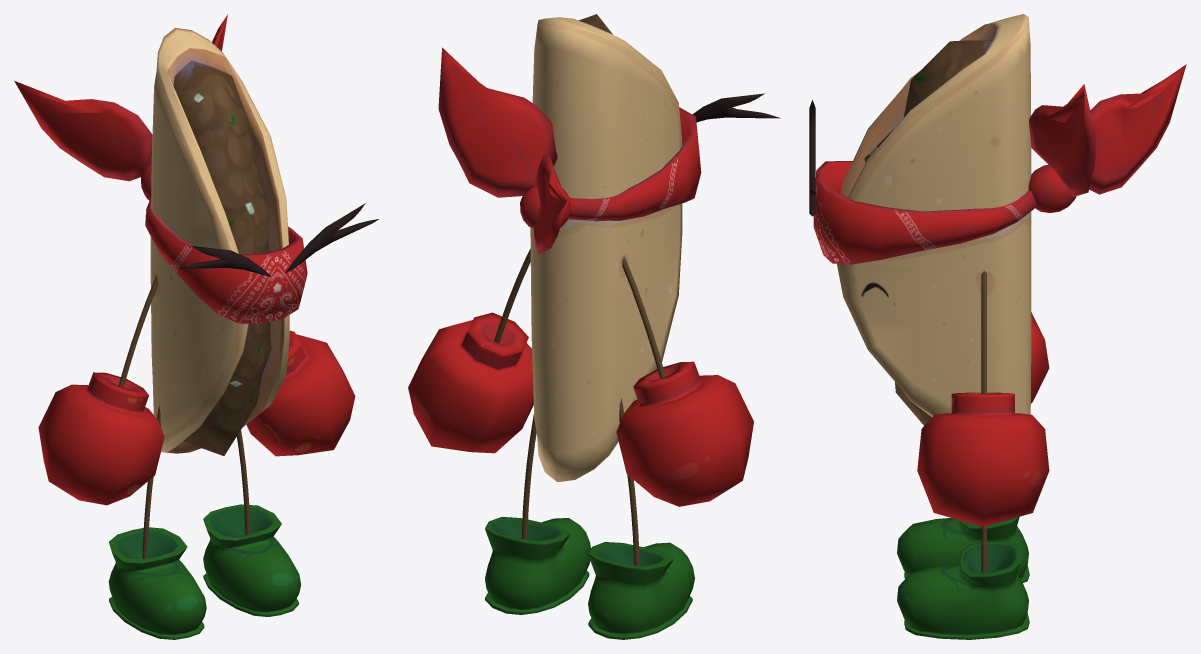
File: MODELOFINALllll.fbx
3 views of the same model, side by side, from view 1: azimuth 30°, elevation 25°; view 2: azimuth 150°, elevation 25°; view 3: azimuth 270°, elevation 25° (orthographic). The views are drawn at different scales.
Parts seen in each view (by area): view 1: Msh_NOUVS_Taco_Msh_Tortilla, Msh_NOUVS_Taco_Msh_Carnita, Msh_NOUVS_Taco_Msh_GuanteL001, Msh_NOUVS_Taco_Msh_ZapatoR, Msh_NOUVS_Taco_Msh_ZapatoL, Msh_Taco_Guante, Msh_NOUVS_Taco_Msh_Bandana, Msh_NOUVS_Taco_Msh_BandanaR, Msh_NOUVS_Taco_Msh_CejaL, Msh_NOUVS_Taco_Msh_CejaR, Msh_NOUVS_Taco_Msh_BrazoL001, Msh_NOUVS_Taco_Msh_PiernaL (+1 smaller); view 2: Msh_NOUVS_Taco_Msh_Tortilla, Msh_NOUVS_Taco_Msh_GuanteL001, Msh_Taco_Guante, Msh_NOUVS_Taco_Msh_BandanaL, Msh_NOUVS_Taco_Msh_ZapatoR, Msh_NOUVS_Taco_Msh_ZapatoL, Msh_NOUVS_Taco_Msh_Bandana, Msh_NOUVS_Taco_Msh_BandanaR, Msh_NOUVS_Taco_Msh_CejaR, Msh_NOUVS_Taco_Msh_BrazoL001, Msh_NOUVS_Taco_Msh_PiernaL, Msh_NOUVS_Taco_Msh_BandanaNudo (+2 smaller); view 3: Msh_NOUVS_Taco_Msh_Tortilla, Msh_Taco_Guante, Msh_NOUVS_Taco_Msh_Bandana, Msh_NOUVS_Taco_Msh_ZapatoL, Msh_NOUVS_Taco_Msh_BandanaR, Msh_NOUVS_Taco_Msh_BandanaL, Msh_NOUVS_Taco_Msh_ZapatoR, Msh_NOUVS_Taco_Msh_Carnita, Msh_NOUVS_Taco_Msh_BandanaNudo, Msh_NOUVS_Taco_Msh_GuanteL001, Msh_NOUVS_Taco_Msh_BrazoL, Msh_NOUVS_Taco_Msh_CejaR.
Boxes of the visible parts, x1=… form: Msh_NOUVS_Taco_Msh_Tortilla: x1=150, y1=28, x2=289, y2=453; Msh_NOUVS_Taco_Msh_Carnita: x1=173, y1=61, x2=271, y2=455; Msh_NOUVS_Taco_Msh_GuanteL001: x1=38, y1=372, x2=164, y2=505; Msh_NOUVS_Taco_Msh_ZapatoR: x1=108, y1=527, x2=206, y2=639; Msh_NOUVS_Taco_Msh_ZapatoL: x1=203, y1=504, x2=300, y2=616; Msh_Taco_Guante: x1=246, y1=330, x2=355, y2=456; Msh_NOUVS_Taco_Msh_Bandana: x1=145, y1=198, x2=307, y2=323; Msh_NOUVS_Taco_Msh_BandanaR: x1=14, y1=80, x2=152, y2=181; Msh_NOUVS_Taco_Msh_CejaL: x1=285, y1=203, x2=378, y2=273; Msh_NOUVS_Taco_Msh_CejaR: x1=177, y1=246, x2=271, y2=276; Msh_NOUVS_Taco_Msh_BrazoL001: x1=118, y1=275, x2=157, y2=387; Msh_NOUVS_Taco_Msh_PiernaL: x1=236, y1=430, x2=250, y2=534; Msh_NOUVS_Taco_Msh_Tortilla: x1=530, y1=17, x2=682, y2=482; Msh_NOUVS_Taco_Msh_GuanteL001: x1=616, y1=361, x2=753, y2=506; Msh_Taco_Guante: x1=408, y1=312, x2=533, y2=453; Msh_NOUVS_Taco_Msh_BandanaL: x1=438, y1=47, x2=557, y2=197; Msh_NOUVS_Taco_Msh_ZapatoR: x1=588, y1=542, x2=694, y2=639; Msh_NOUVS_Taco_Msh_ZapatoL: x1=485, y1=516, x2=590, y2=614; Msh_NOUVS_Taco_Msh_Bandana: x1=568, y1=107, x2=701, y2=221; Msh_NOUVS_Taco_Msh_BandanaR: x1=534, y1=155, x2=570, y2=253; Msh_NOUVS_Taco_Msh_CejaR: x1=692, y1=93, x2=780, y2=122; Msh_NOUVS_Taco_Msh_BrazoL001: x1=622, y1=256, x2=665, y2=378; Msh_NOUVS_Taco_Msh_PiernaL: x1=522, y1=414, x2=536, y2=539; Msh_NOUVS_Taco_Msh_BandanaNudo: x1=520, y1=186, x2=570, y2=228; Msh_NOUVS_Taco_Msh_Tortilla: x1=837, y1=14, x2=1031, y2=416; Msh_Taco_Guante: x1=917, y1=392, x2=1049, y2=526; Msh_NOUVS_Taco_Msh_Bandana: x1=813, y1=161, x2=1037, y2=264; Msh_NOUVS_Taco_Msh_ZapatoL: x1=897, y1=541, x2=1029, y2=639; Msh_NOUVS_Taco_Msh_BandanaR: x1=1089, y1=64, x2=1186, y2=194; Msh_NOUVS_Taco_Msh_BandanaL: x1=1029, y1=84, x2=1095, y2=196; Msh_NOUVS_Taco_Msh_ZapatoR: x1=897, y1=517, x2=1029, y2=582; Msh_NOUVS_Taco_Msh_Carnita: x1=864, y1=40, x2=992, y2=425; Msh_NOUVS_Taco_Msh_BandanaNudo: x1=1028, y1=164, x2=1076, y2=212; Msh_NOUVS_Taco_Msh_GuanteL001: x1=1031, y1=312, x2=1049, y2=403; Msh_NOUVS_Taco_Msh_BrazoL: x1=981, y1=271, x2=986, y2=393; Msh_NOUVS_Taco_Msh_CejaR: x1=809, y1=100, x2=815, y2=185.
Size of the model in its own units: 10.5 by 18.81 by 11.03.
2 materials, 2 textured.
